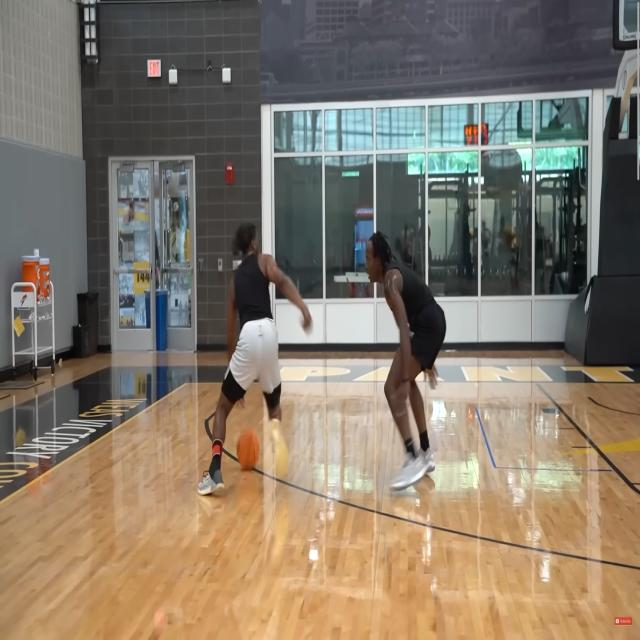Basketball: (237, 431, 260, 468)
